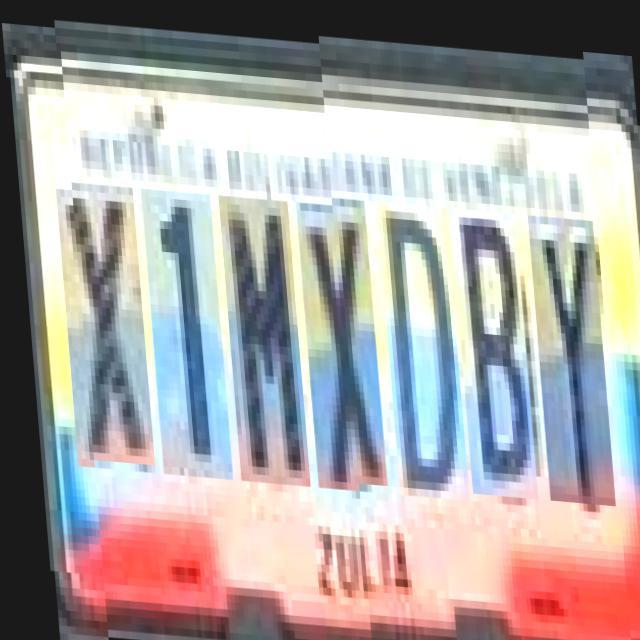1: (137, 179, 225, 469)
B: (448, 200, 530, 490)
D: (374, 195, 462, 493)
M: (215, 184, 302, 474)
X: (52, 172, 147, 456), (292, 190, 380, 480)
Y: (524, 205, 608, 496)
